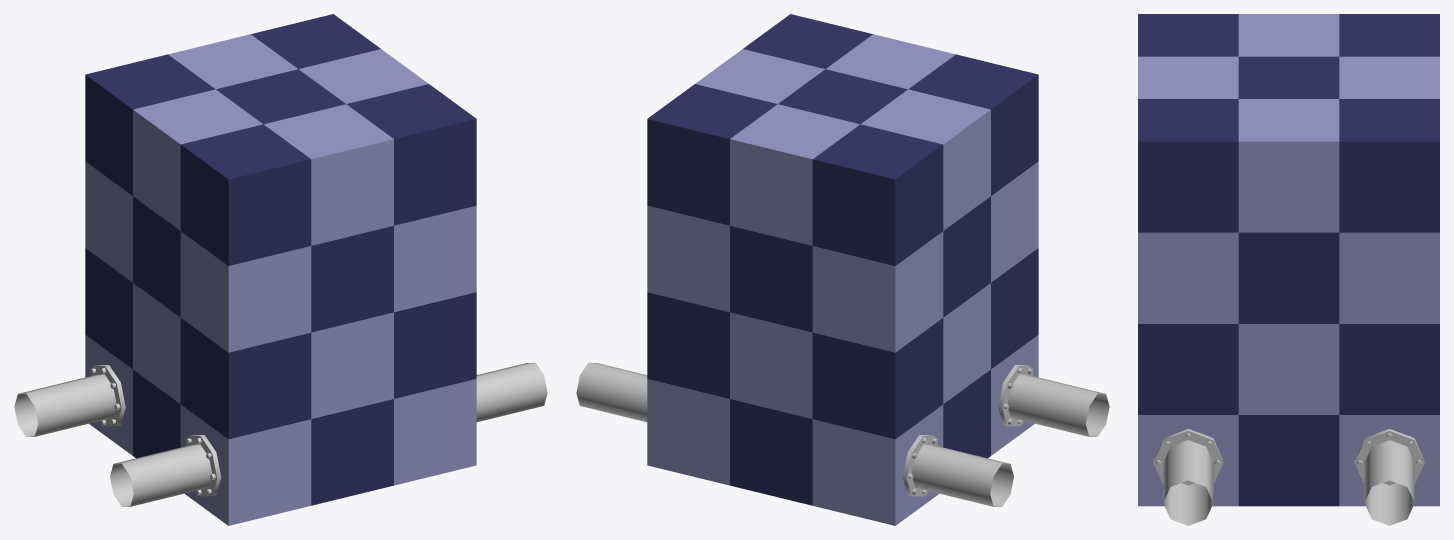
File: SmallStorage_StorageFluidSmall.obj
3 renders of one model, left to right at view 1: azimuth 30°, elevation 25°; view 2: azimuth 150°, elevation 25°; view 3: azimuth 270°, elevation 25°, orthographic. The views are drawn at different scales.
Bounding box in the file's own units: 10 × 8 × 6.
